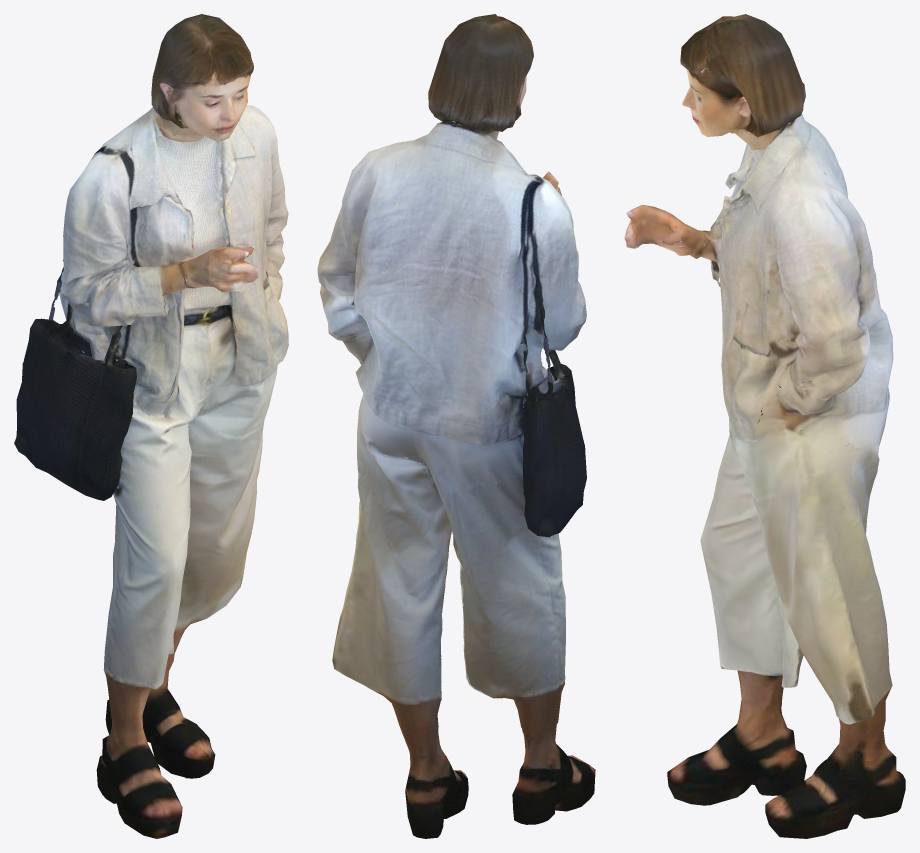
3 renders of one model, left to right at view 1: azimuth 30°, elevation 25°; view 2: azimuth 150°, elevation 25°; view 3: azimuth 270°, elevation 25°, orthographic. The views are drawn at different scales.
Parts seen in each view (by area): view 1: Object_3.003; view 2: Object_3.003; view 3: Object_3.003.
Boxes of the visible parts, x1=… form: Object_3.003: x1=14, y1=14, x2=288, y2=838; Object_3.003: x1=317, y1=14, x2=595, y2=838; Object_3.003: x1=624, y1=14, x2=905, y2=838.
Size of the model in its own units: 0.5745 by 1.71 by 0.5374.
Materials: 1 (1 with a texture image).
